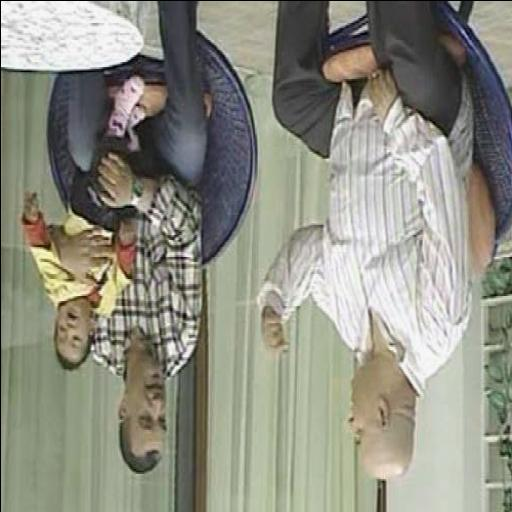sboui: (348, 348, 417, 478)
slimane: (119, 353, 167, 473)
